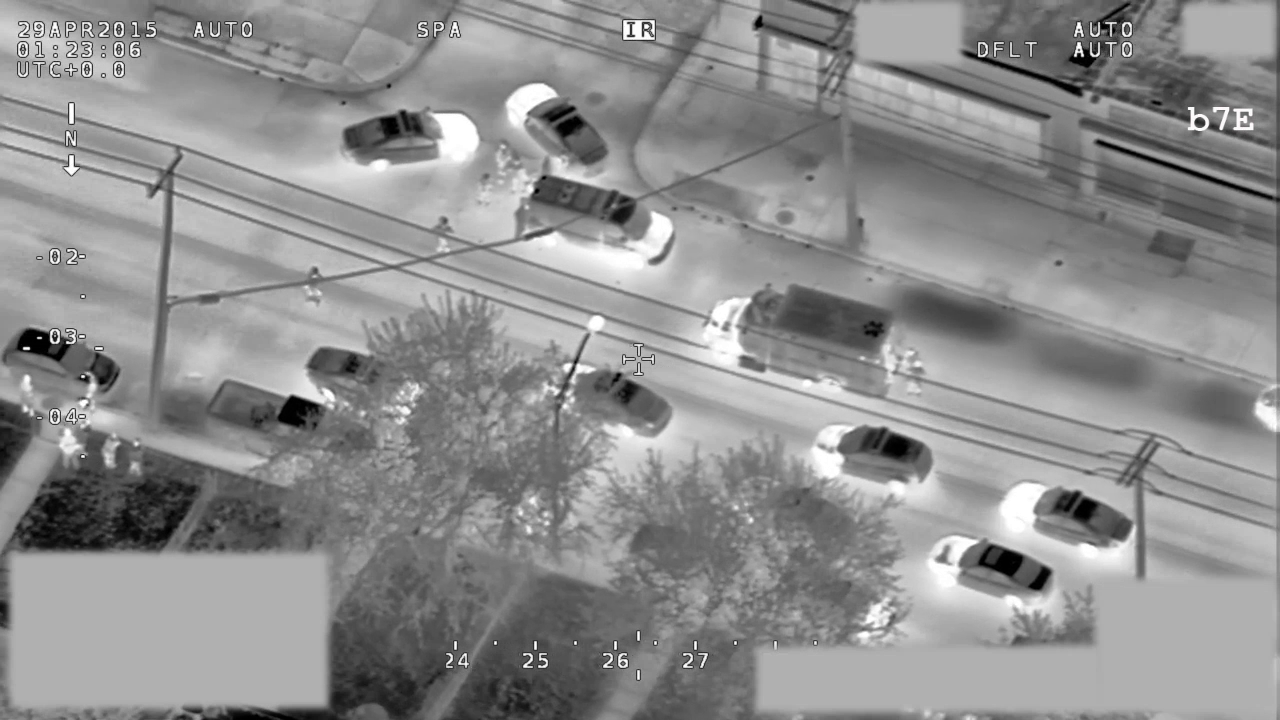vehicle: (703, 279, 906, 404), (511, 153, 675, 268), (205, 375, 368, 458), (504, 74, 615, 186), (1001, 474, 1138, 561), (810, 419, 942, 504), (549, 361, 672, 445), (927, 532, 1059, 610), (338, 103, 480, 175), (306, 342, 421, 419), (2, 325, 123, 397)
